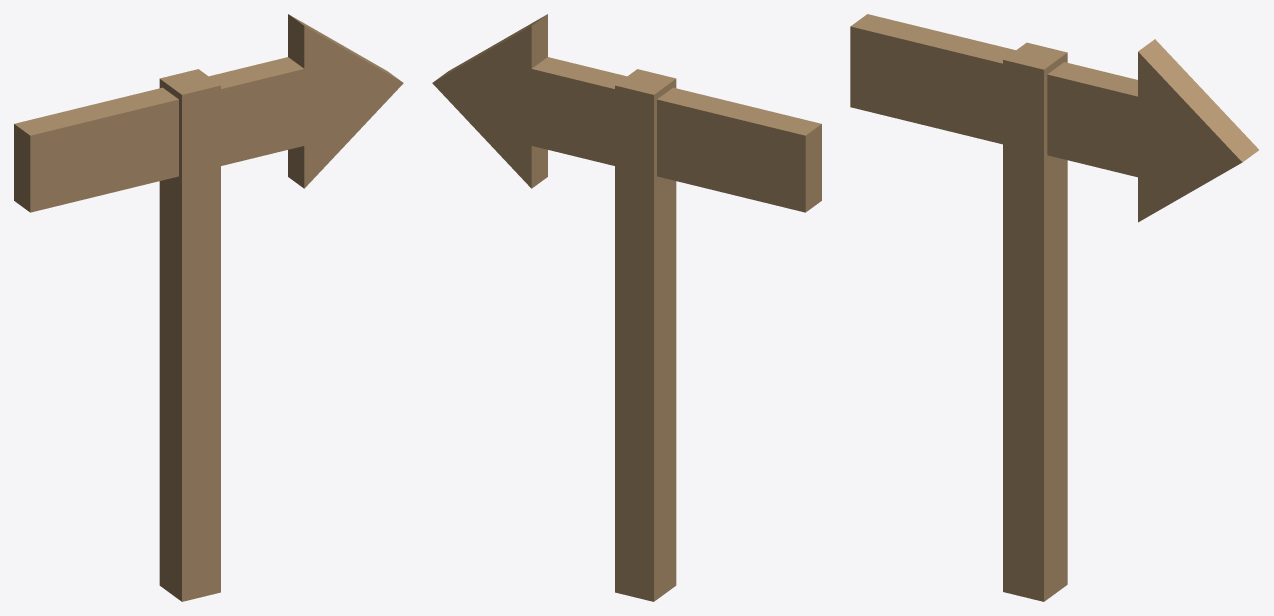
File: direction_sign_01.glb
3 renders of one model, left to right at view 1: azimuth 30°, elevation 25°; view 2: azimuth 150°, elevation 25°; view 3: azimuth 330°, elevation 25°, orthographic. The views are drawn at different scales.
Visible parts, largest first — view 1: Direction_sign_01; view 2: Direction_sign_01; view 3: Direction_sign_01.
Boxes of the visible parts, bbox=[...] form: Direction_sign_01: bbox=[14, 14, 403, 601]; Direction_sign_01: bbox=[432, 14, 821, 601]; Direction_sign_01: bbox=[850, 14, 1258, 601].
Size of the model in its own units: 0.8634 by 1.2 by 0.09.
